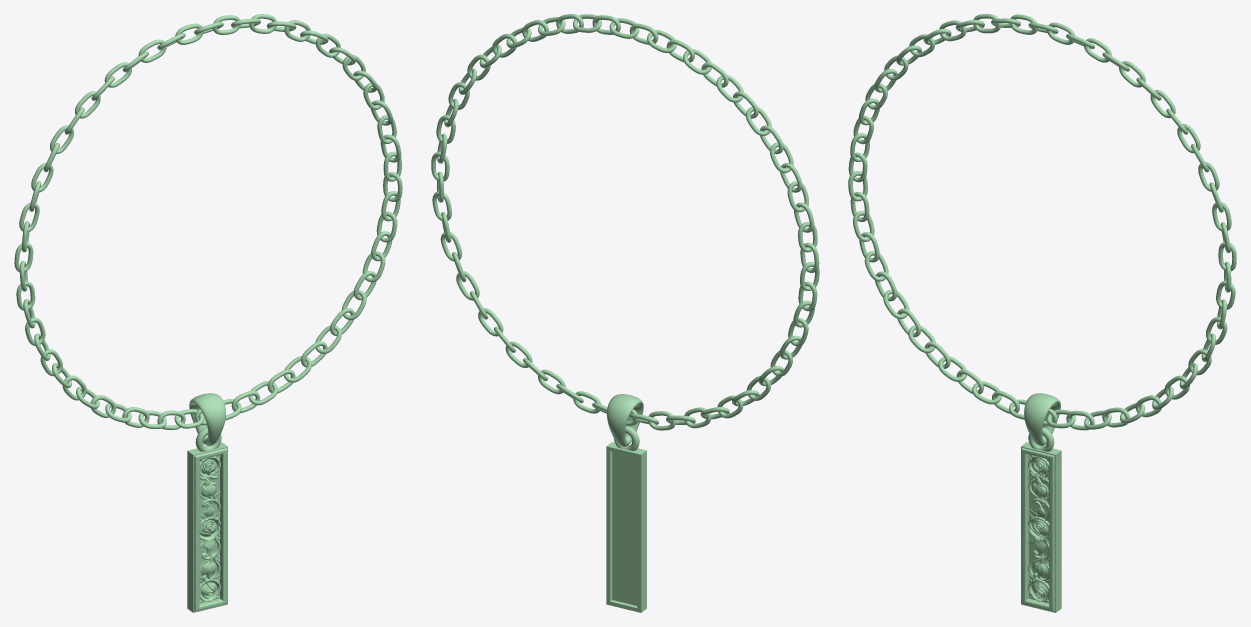
3 views of the same model, side by side, from view 1: azimuth 30°, elevation 25°; view 2: azimuth 150°, elevation 25°; view 3: azimuth 330°, elevation 25° (orthographic).
Parts seen in each view (by area): view 1: Pingente Alfabeto3 Letra I Render.3dm, Bail; view 2: Pingente Alfabeto3 Letra I Render.3dm, Bail; view 3: Pingente Alfabeto3 Letra I Render.3dm, Bail.
Boxes of the visible parts, x1,y1,x2,y2 form: Pingente Alfabeto3 Letra I Render.3dm: (14,14,402,612); Bail: (189,393,225,445); Pingente Alfabeto3 Letra I Render.3dm: (431,14,819,612); Bail: (607,394,643,446); Pingente Alfabeto3 Letra I Render.3dm: (848,14,1236,612); Bail: (1024,393,1060,446).
Size of the model in its own units: 2.27 by 3.29 by 0.2179.
